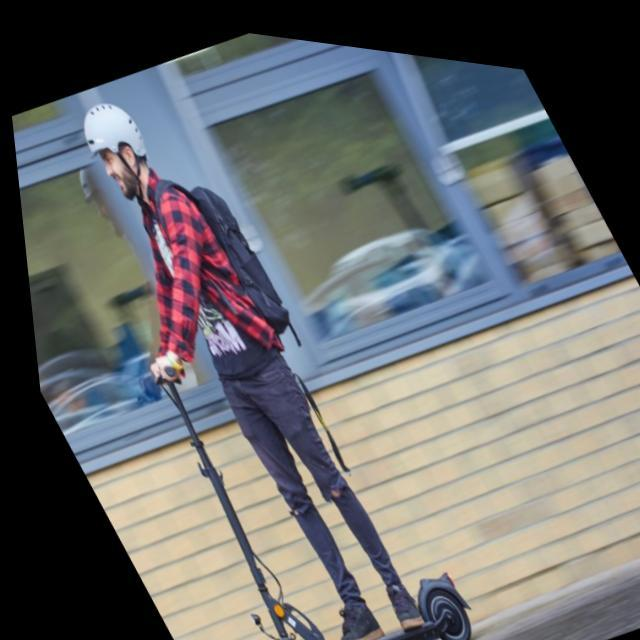Helmet: (75, 93, 156, 208)
